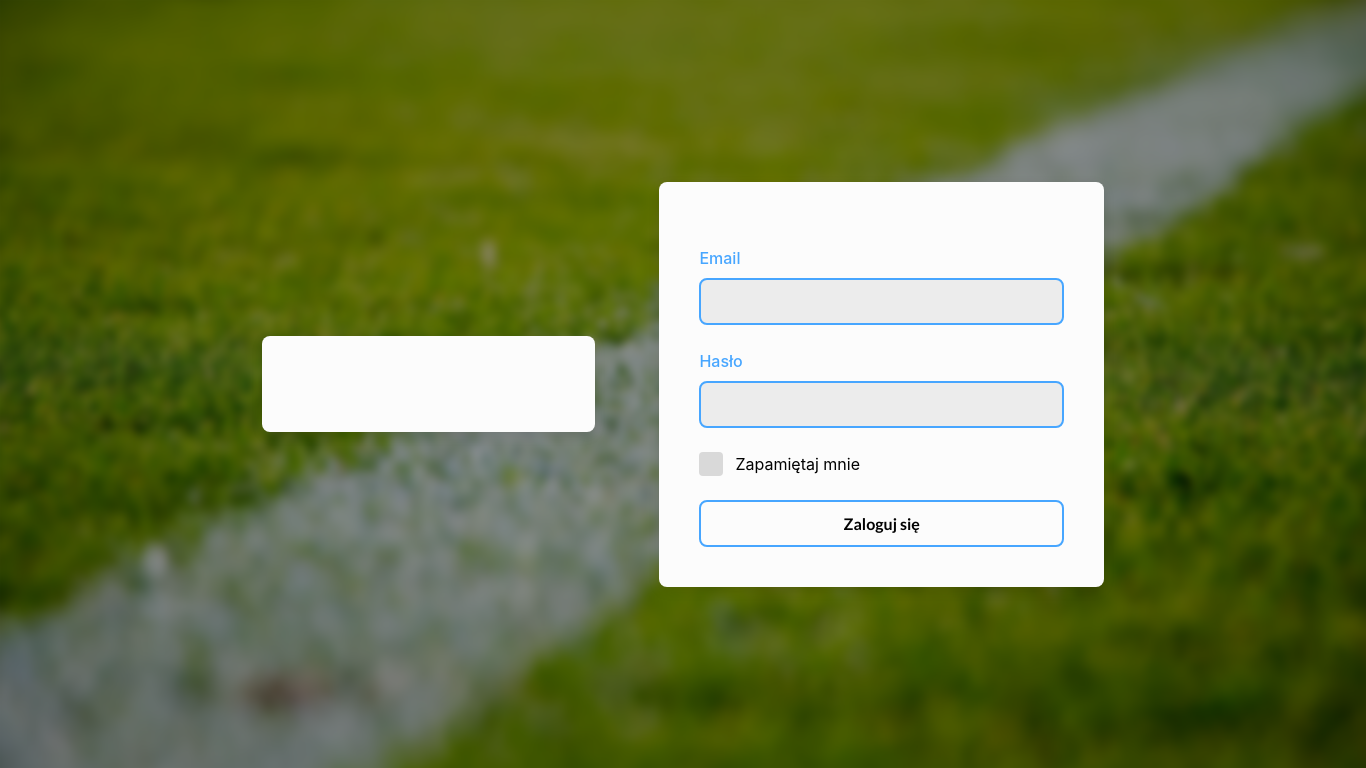
Test: Kluczowe testy aplikacji › 8. Login – wyświetla błąd serwera przy nieudanym logowaniu
Expected: the text "Email" is shown, top-left (699, 248), bottom-right (740, 268)
In the field labelled "Email": (882, 301) top-left (699, 278), bottom-right (1064, 324), type "test@example.com"
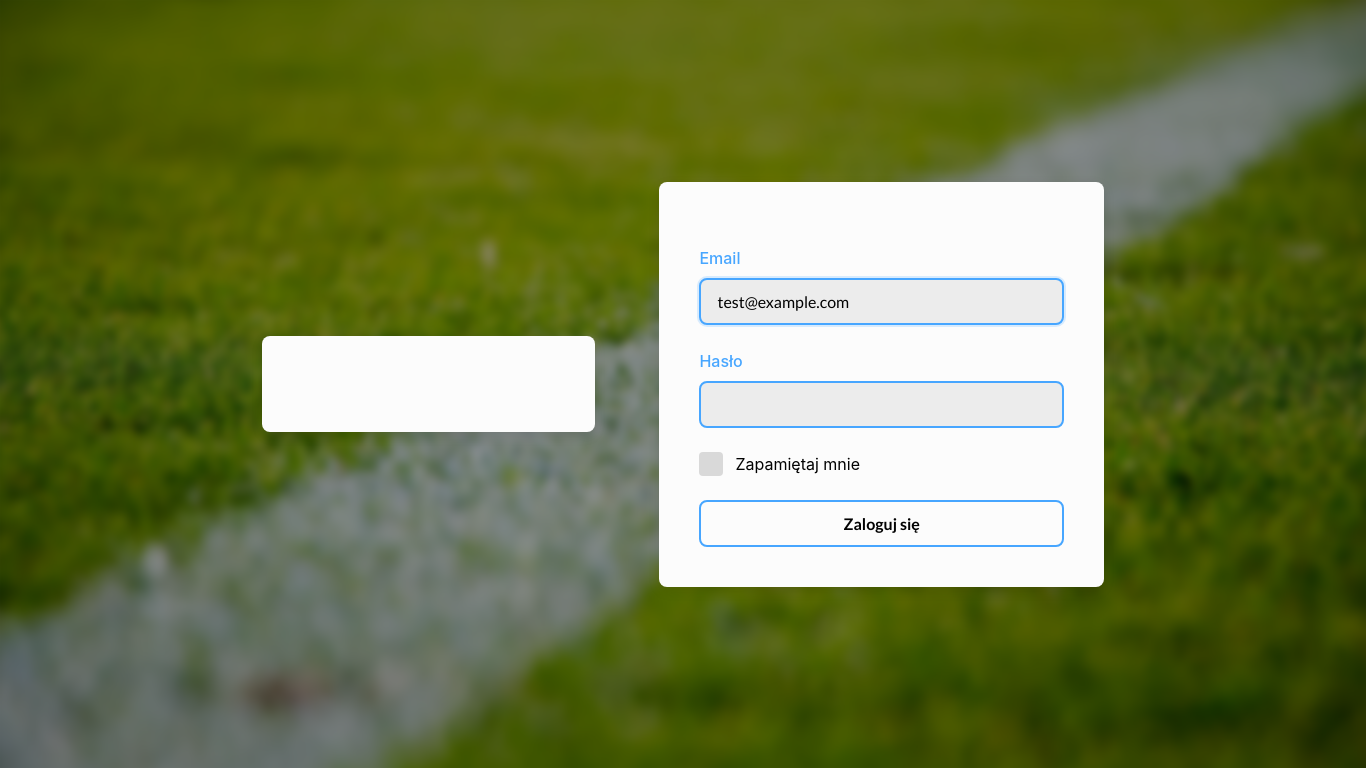
In the password field labelled "Hasło": (882, 404) top-left (699, 380), bottom-right (1064, 428), type "Password1!"
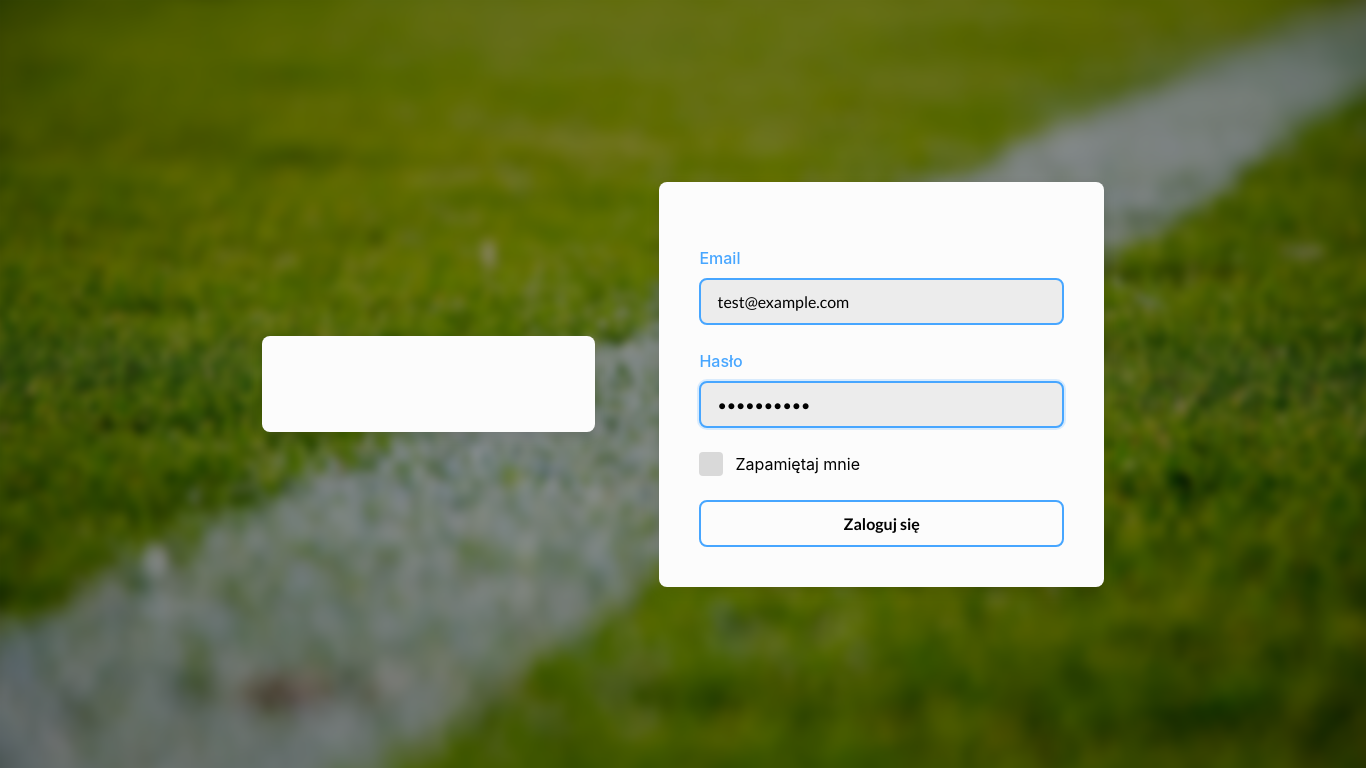
Click the button "Zaloguj się": (882, 523) top-left (699, 500), bottom-right (1064, 546)
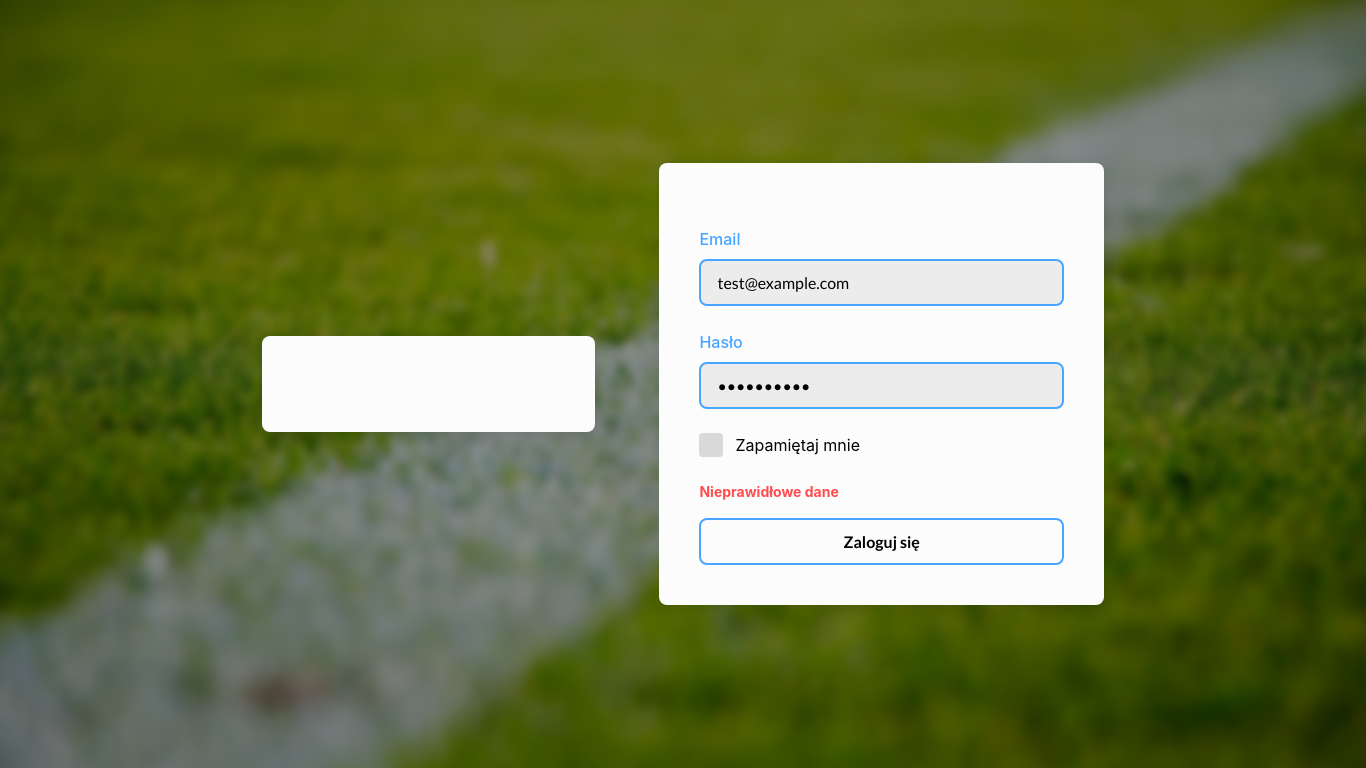
Expected: the text "Nieprawidłowe dane" is shown, top-left (699, 483), bottom-right (839, 500)
